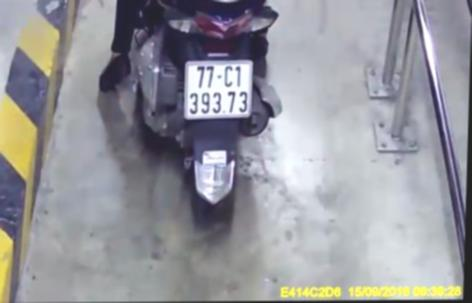License_Plate: (175, 57, 259, 123)
